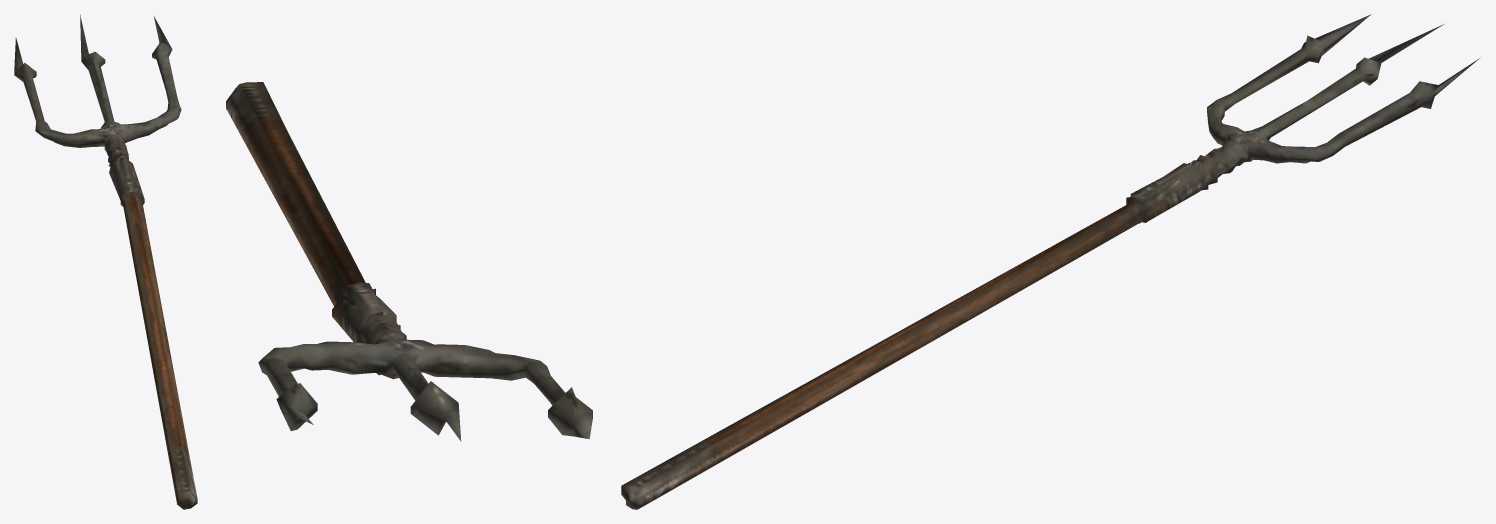
Rendered from WPN_SPEAR.glb.
3 renders of one model, left to right at view 1: azimuth 30°, elevation 25°; view 2: azimuth 210°, elevation 25°; view 3: azimuth 330°, elevation 25°, orthographic. The views are drawn at different scales.
Parts seen in each view (by area): view 1: WPN_SPEAR; view 2: WPN_SPEAR; view 3: WPN_SPEAR.
Boxes of the visible parts, <box> form: WPN_SPEAR: <box>14,14,197,509</box>; WPN_SPEAR: <box>226,82,592,441</box>; WPN_SPEAR: <box>621,14,1480,509</box>.
Bounding box in the file's own units: 0.184 × 0.0959 × 0.3757.
Materials: 1 (1 with a texture image).
